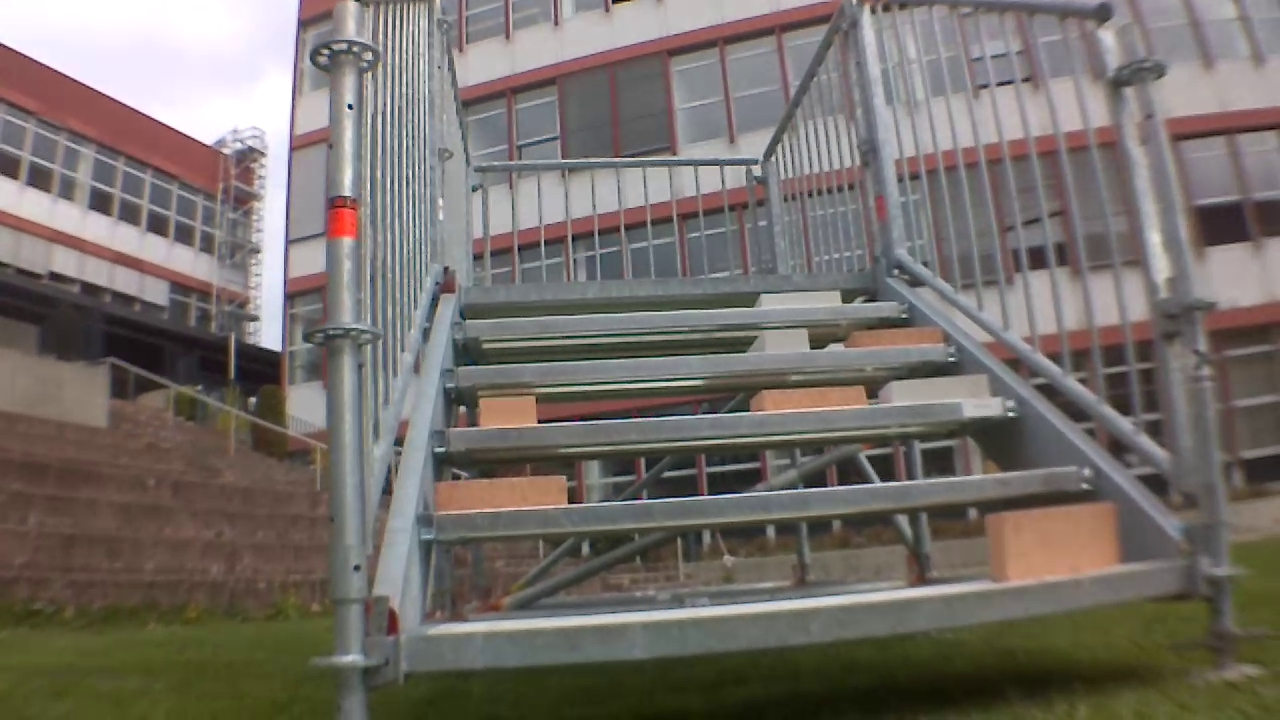brick: (979, 502, 1120, 575), (436, 469, 570, 507), (748, 384, 871, 412), (889, 375, 990, 402), (846, 324, 947, 350), (748, 290, 851, 312), (476, 397, 538, 428), (747, 328, 805, 356)
edge: (413, 563, 1189, 677), (421, 464, 1092, 540), (434, 395, 1024, 453), (435, 340, 964, 389), (451, 300, 918, 340), (459, 274, 885, 299)
stairs: (345, 0, 1212, 717)
steps: (389, 273, 1199, 687)
